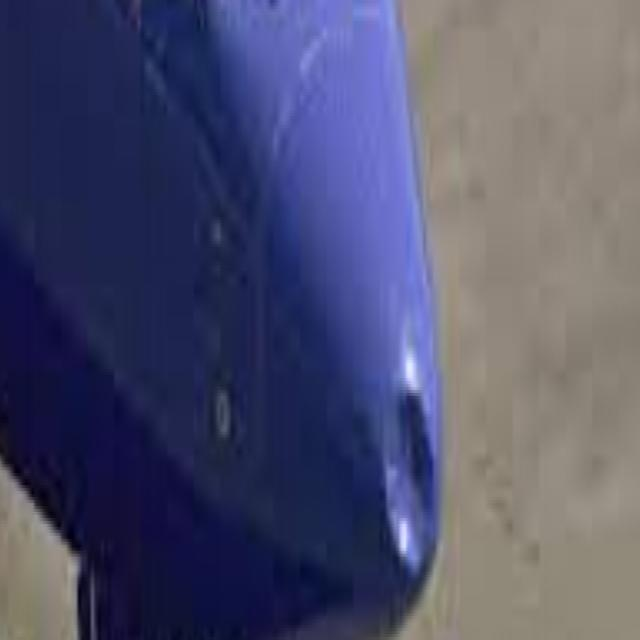dents: (376, 364, 445, 586)
